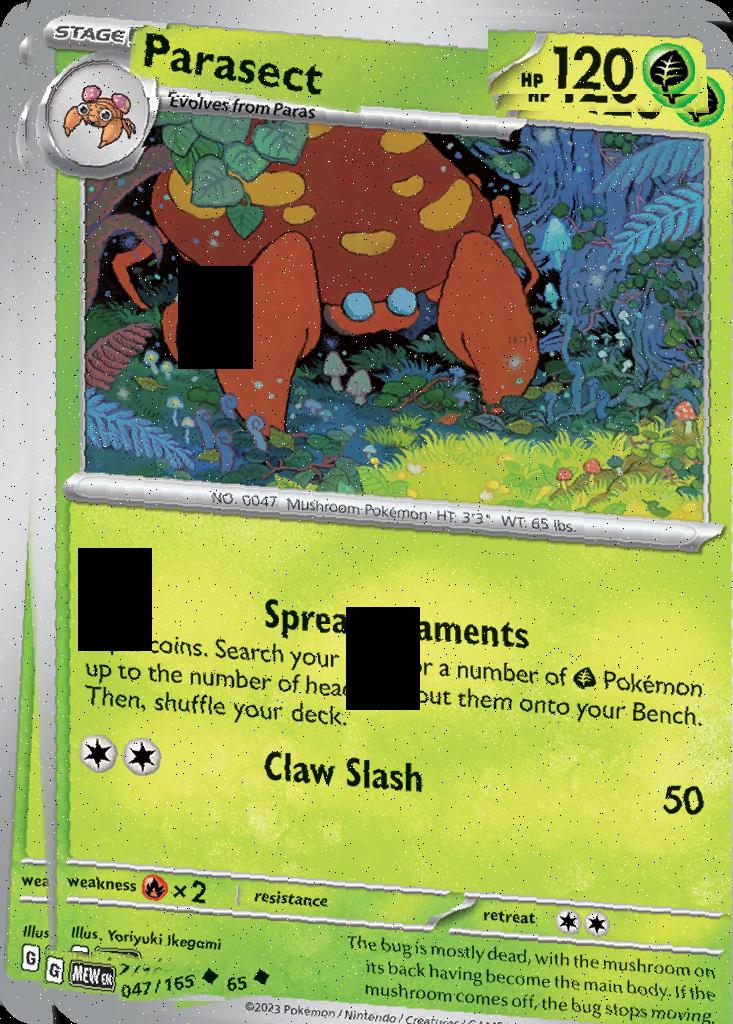card: (0, 0, 733, 1024)
hp: (489, 21, 704, 95)
name: (129, 27, 361, 97)
set num: (119, 959, 227, 1001)
set symbol: (42, 951, 119, 995)
